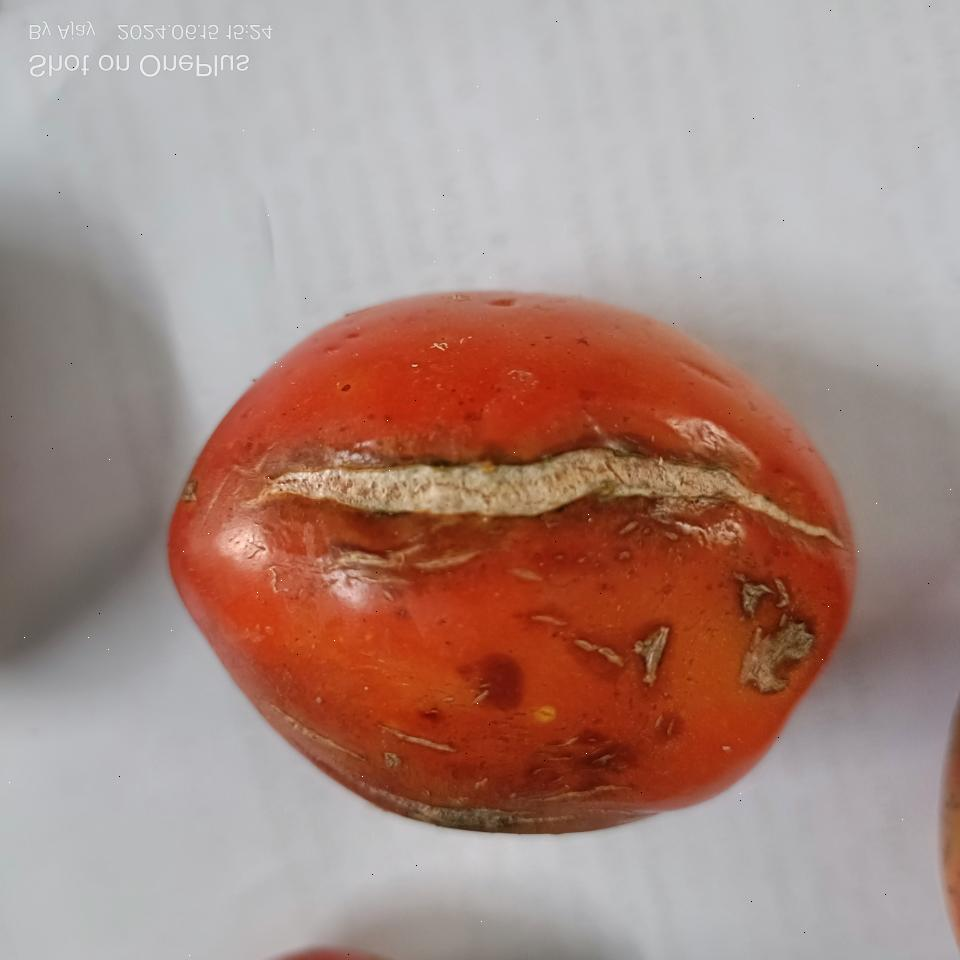Cracking: (225, 446, 856, 562), (746, 572, 826, 692)
